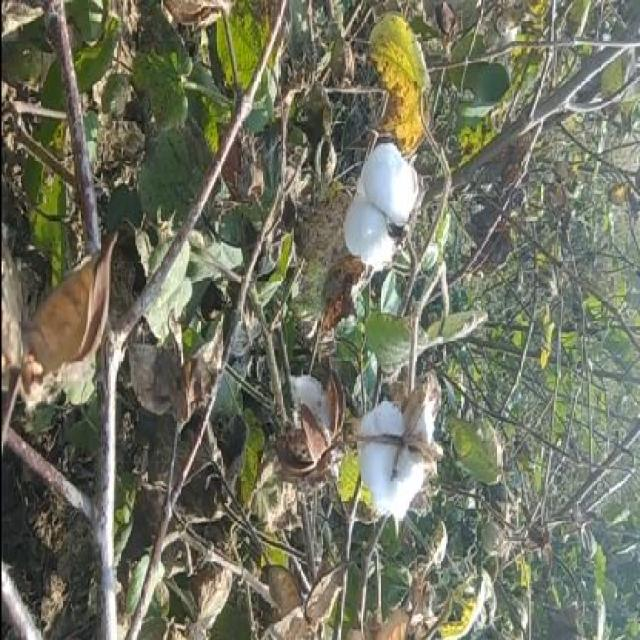cotton_ready: (345, 382, 446, 530), (341, 130, 421, 284)
